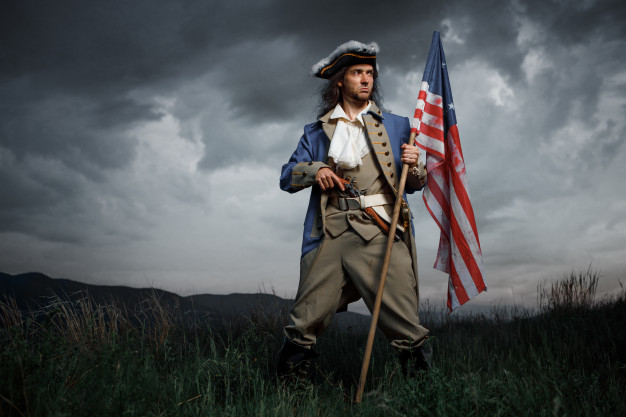Flag: (406, 27, 494, 318)
